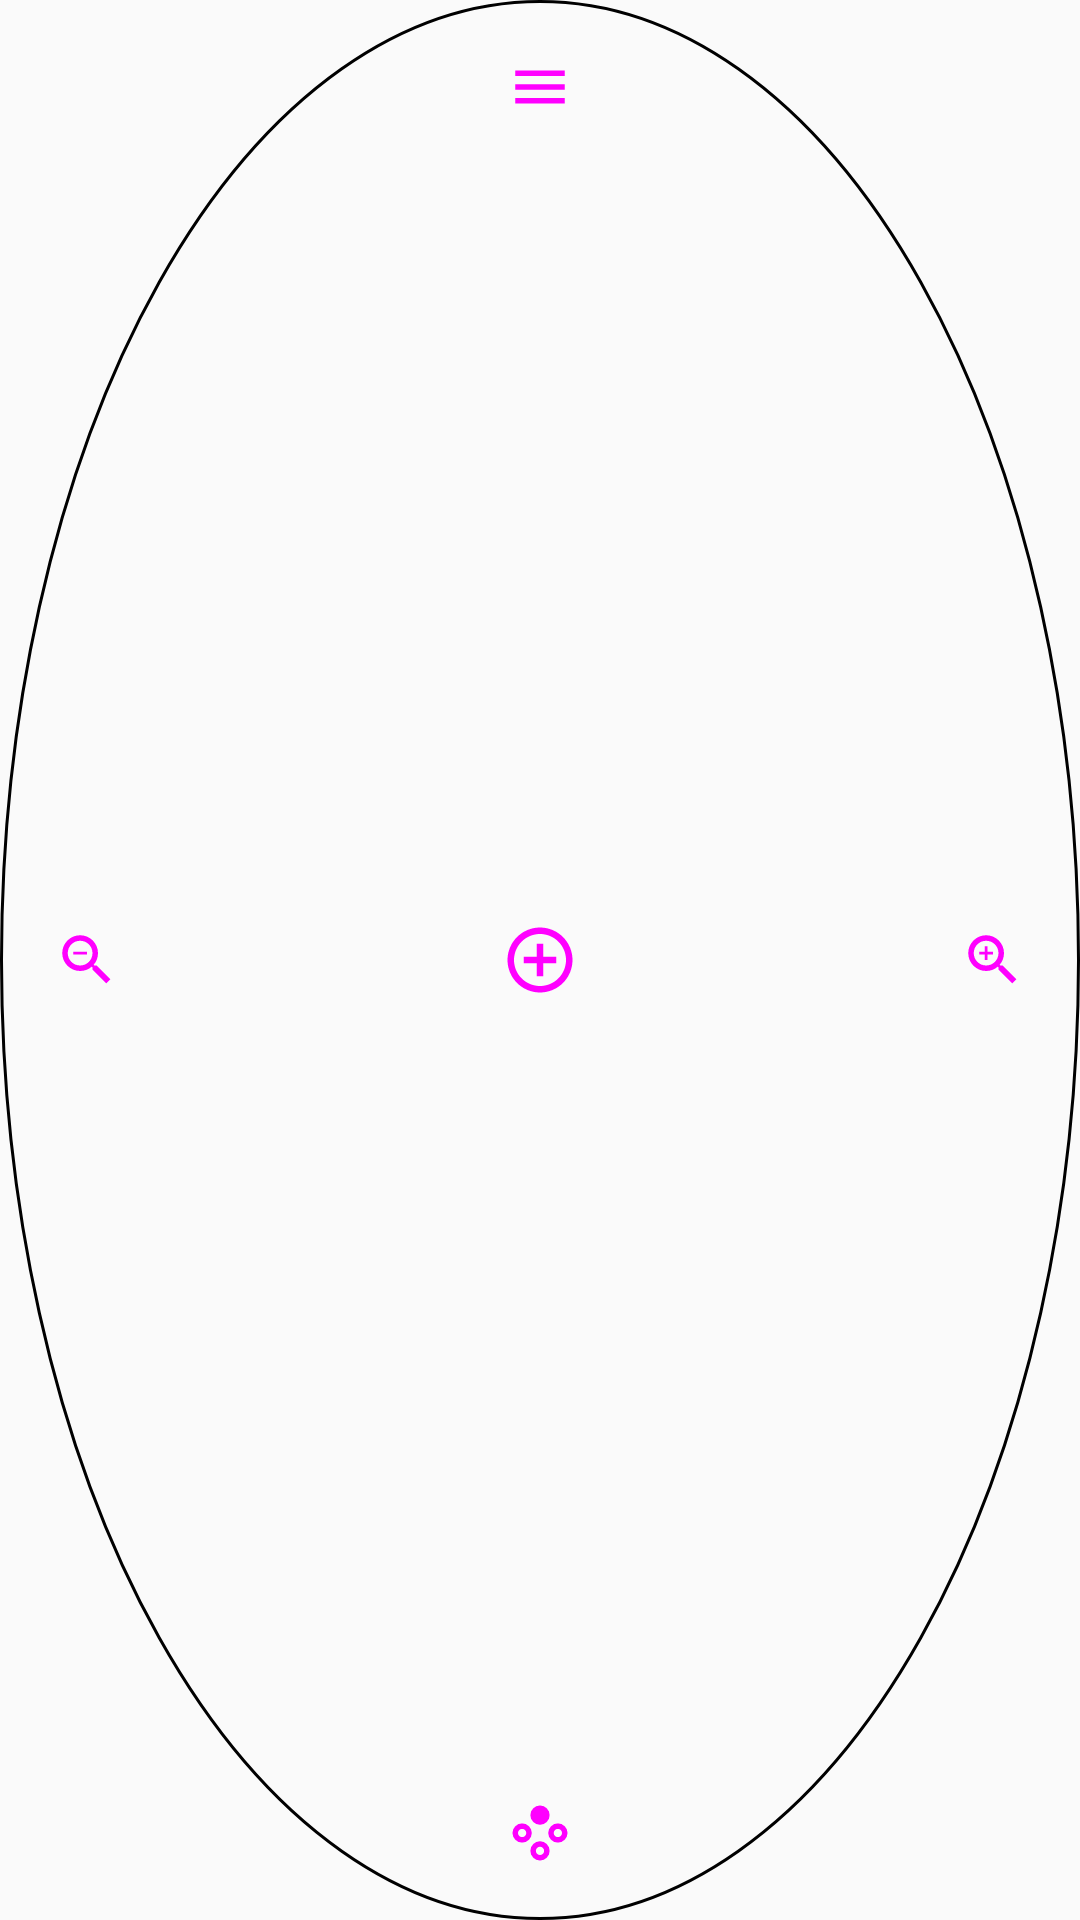

Icons on this 1080x1920 Android screen, each with its box as (x1, y1, x2, y2):
dpad mode: (512, 1805, 568, 1861)
menu: (515, 70, 565, 104)
zoom in: (968, 935, 1017, 984)
zoom out: (62, 935, 111, 984)
